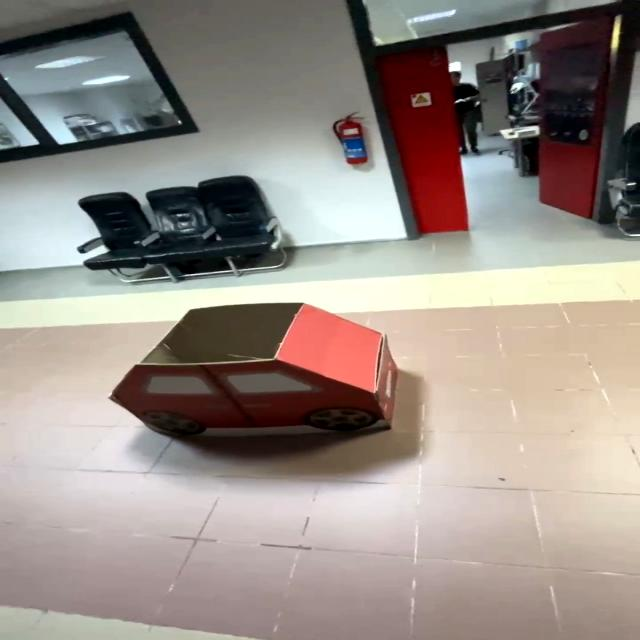red_car: (70, 295, 447, 472)
